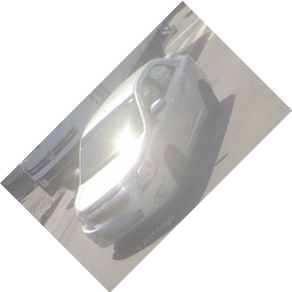car: (76, 56, 218, 247)
